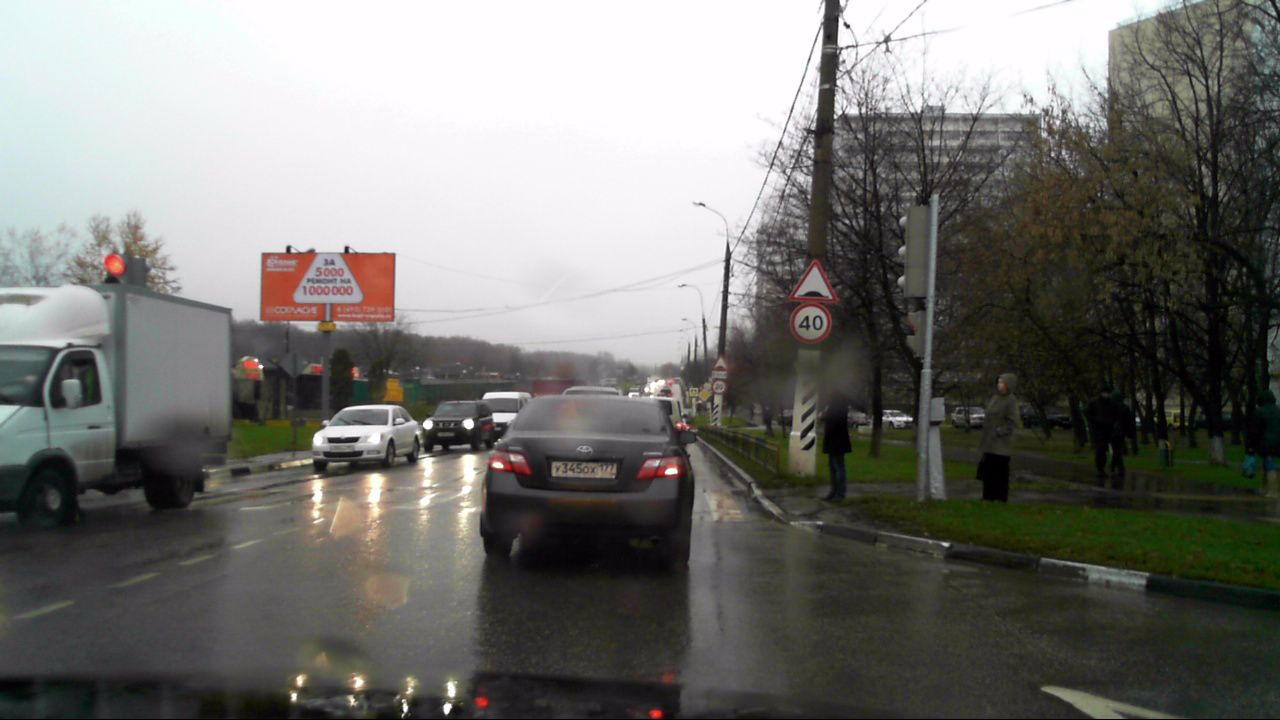speed_warning_40: (791, 303, 831, 341)
